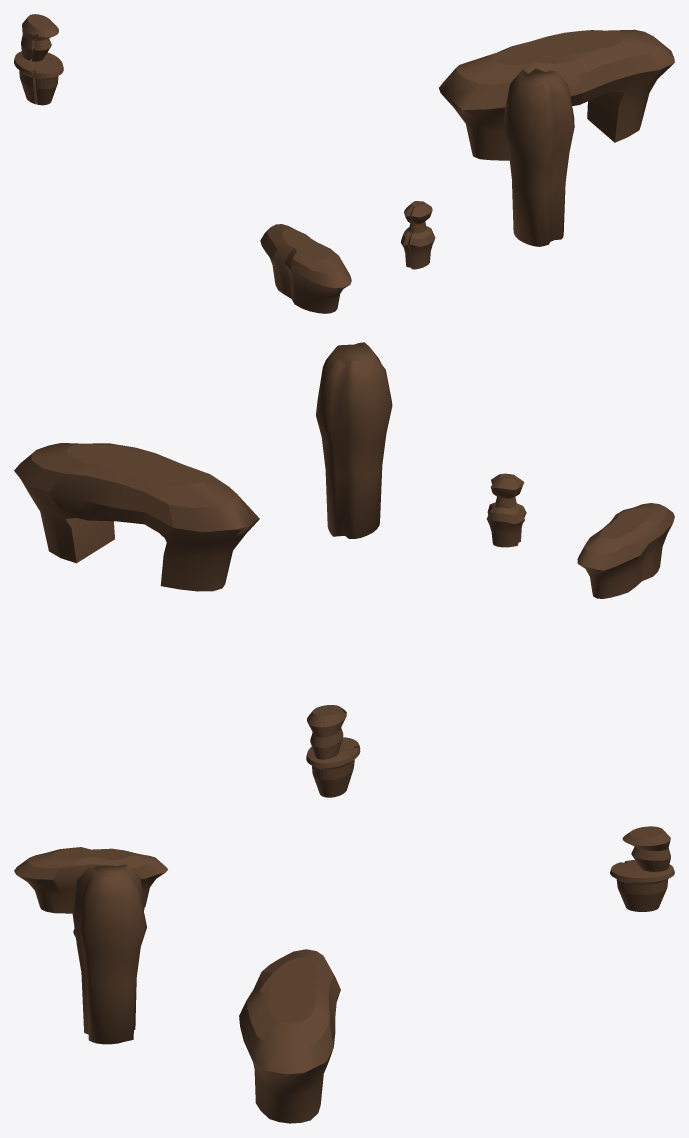
Rendered from rocks.gltf.
3 renders of one model, top to bottom at view 1: azimuth 30°, elevation 25°; view 2: azimuth 150°, elevation 25°; view 3: azimuth 270°, elevation 25°, orthographic. The views are drawn at different scales.
Parts seen in each view (by area): view 1: Rock.003, Rock.001, Rock, Rock.005, Rock.002; view 2: Rock.003, Rock.001, Rock, Rock.005, Rock.002; view 3: Rock.003, Rock.001, Rock, Rock.005.
Part boxes in pixels (left/top/right/bottom): Rock.003: left=439, top=29, right=674, bottom=160; Rock.001: left=504, top=68, right=574, bottom=246; Rock: left=260, top=224, right=351, bottom=313; Rock.005: left=14, top=14, right=63, bottom=105; Rock.002: left=401, top=201, right=435, bottom=269; Rock.003: left=14, top=443, right=259, bottom=591; Rock.001: left=316, top=342, right=392, bottom=538; Rock: left=577, top=503, right=674, bottom=598; Rock.005: left=306, top=705, right=360, bottom=797; Rock.002: left=487, top=473, right=526, bottom=547; Rock.003: left=239, top=949, right=340, bottom=1123; Rock.001: left=72, top=864, right=146, bottom=1044; Rock: left=14, top=847, right=167, bottom=913; Rock.005: left=610, top=826, right=674, bottom=911.
Size of what is drawn, in the model's own units: 34.75 by 11.3 by 39.81.
